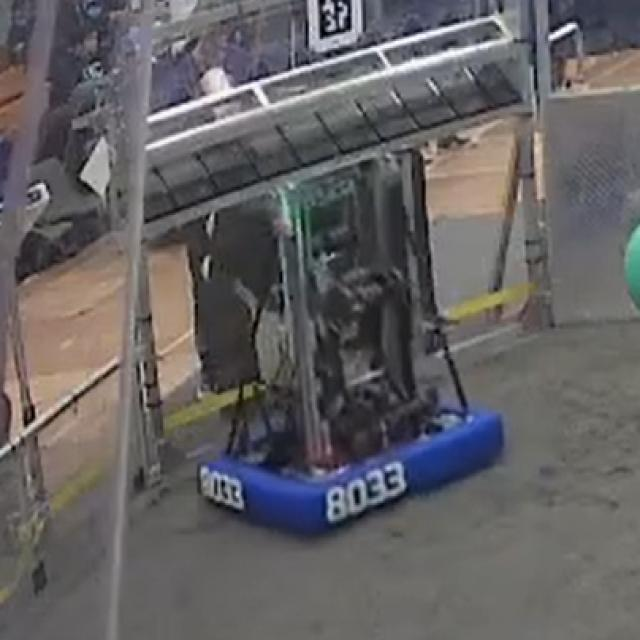Robot-YfA7: (198, 255, 507, 543)
